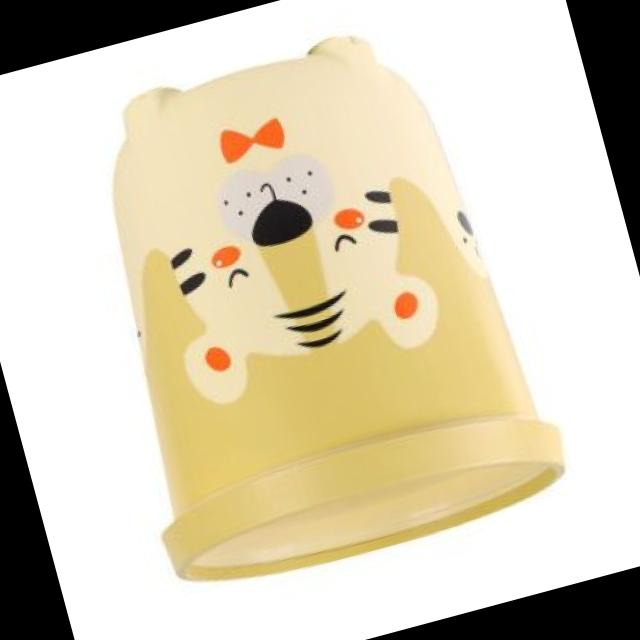dustbin: (43, 0, 580, 611)
